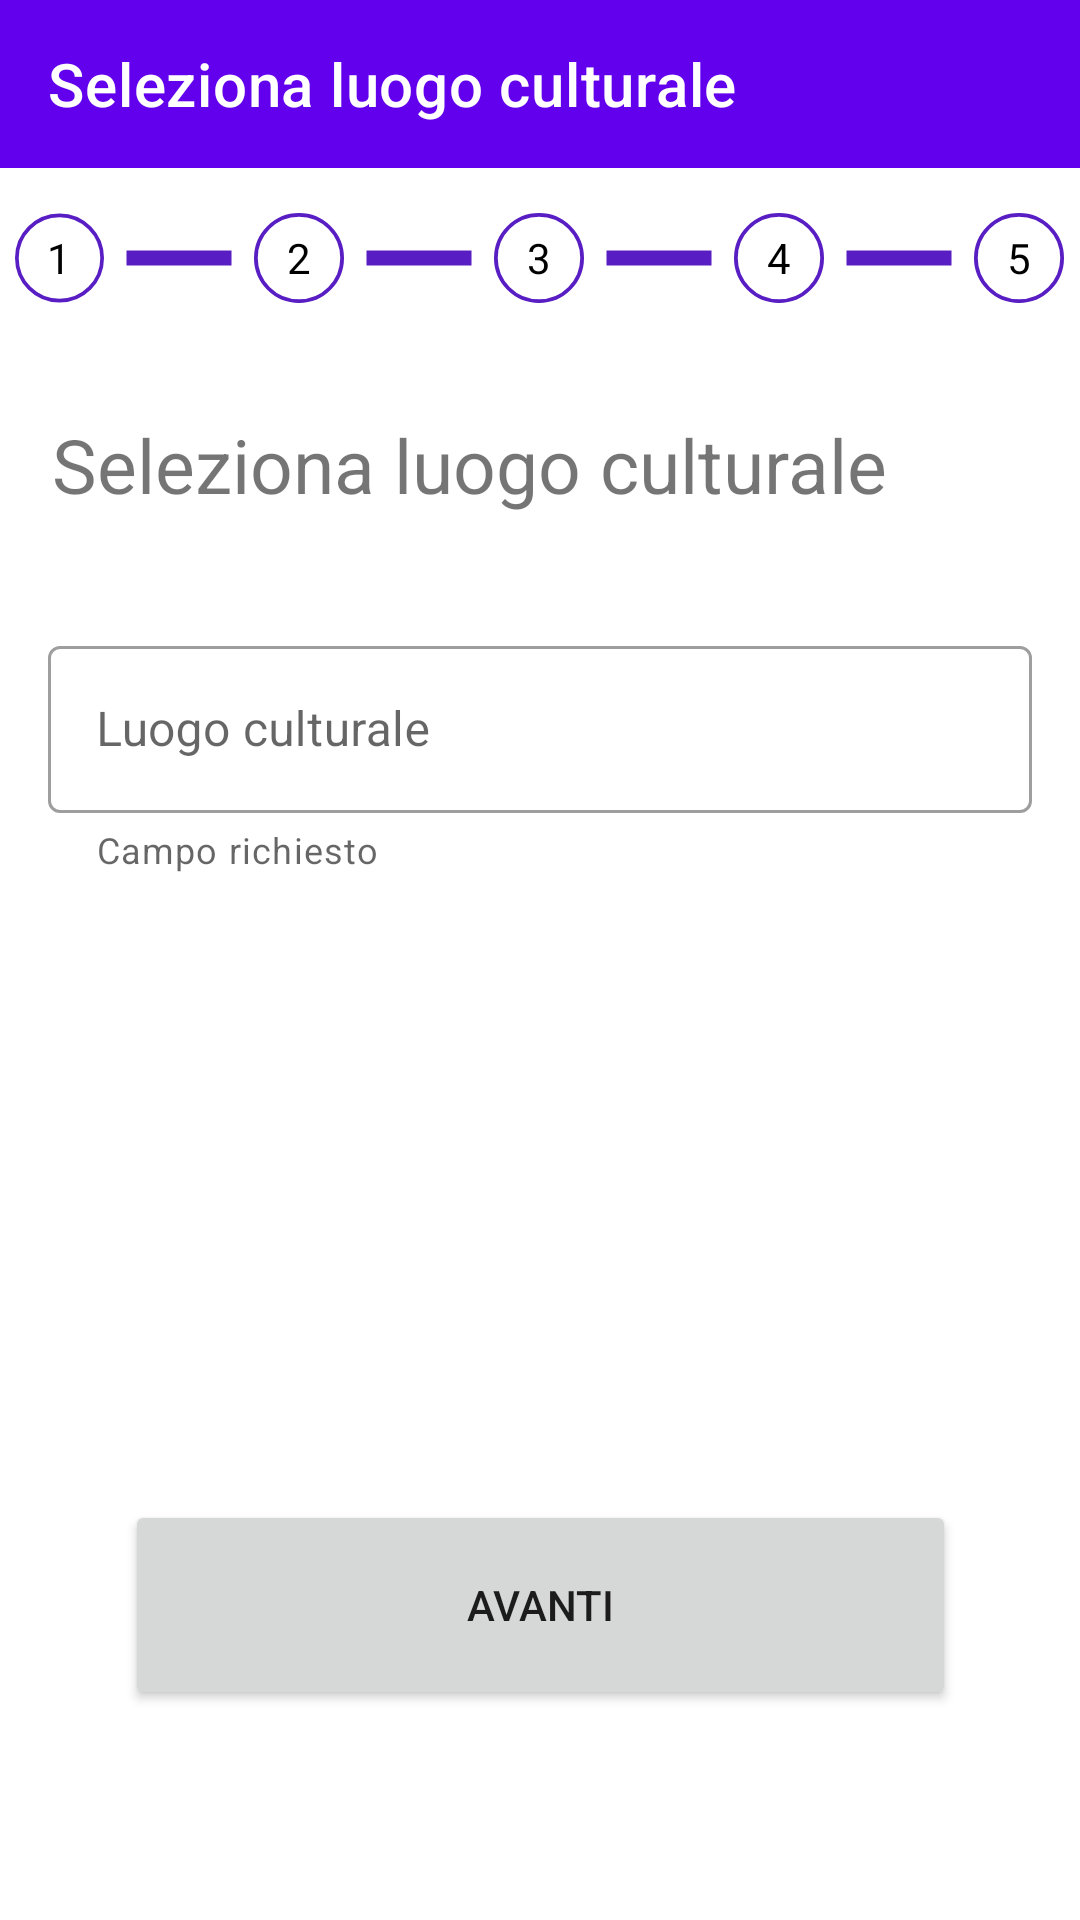

Where to tap for icons on this 1080 × 1920 app screen, as point (x, y):
circle: point (59, 258), point (299, 258), point (539, 258), point (779, 258), point (1019, 258)
